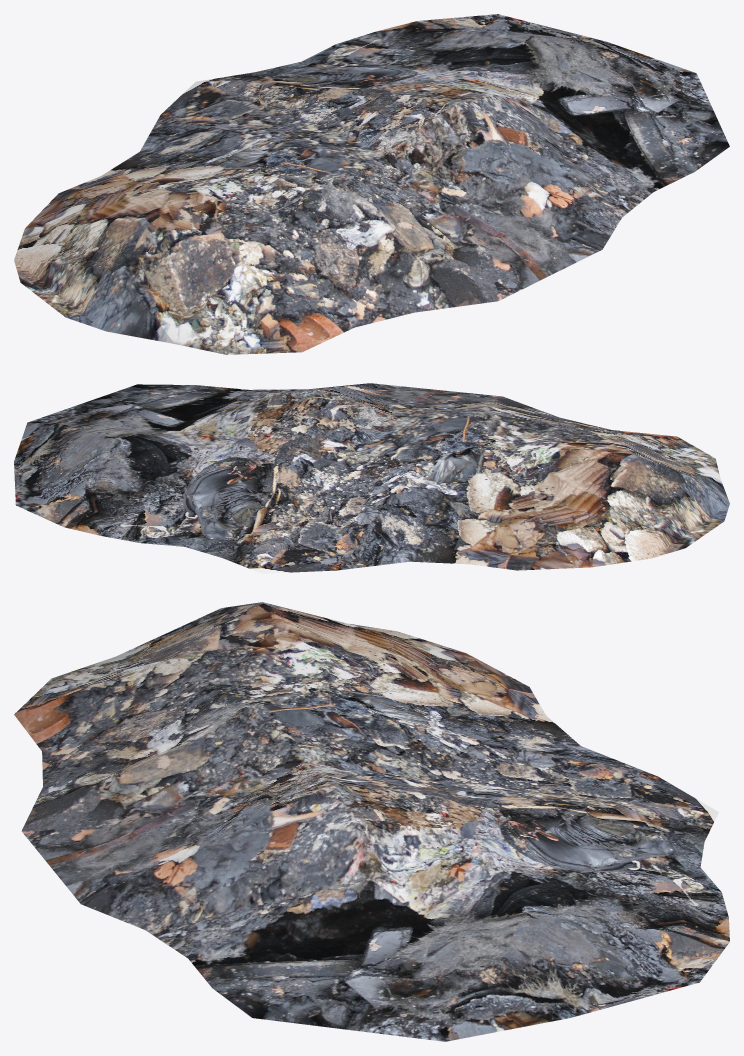
The model's file is rubbish2.obj.
3 views of the same model, one above another, from view 1: azimuth 30°, elevation 25°; view 2: azimuth 150°, elevation 25°; view 3: azimuth 270°, elevation 25° (orthographic). The views are drawn at different scales.
Visible parts, largest first — view 1: def_surf_mat; view 2: def_surf_mat; view 3: def_surf_mat.
Boxes of the visible parts, x1,y1,x2,y2 form: def_surf_mat: (14,14,729,354); def_surf_mat: (14,383,729,573); def_surf_mat: (14,602,729,1041).
Size of the model in its own units: 110 by 11.68 by 78.64.
Materials: 1 (1 with a texture image).
